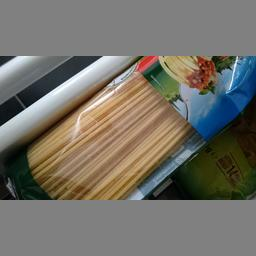pasta: (4, 56, 254, 197)
